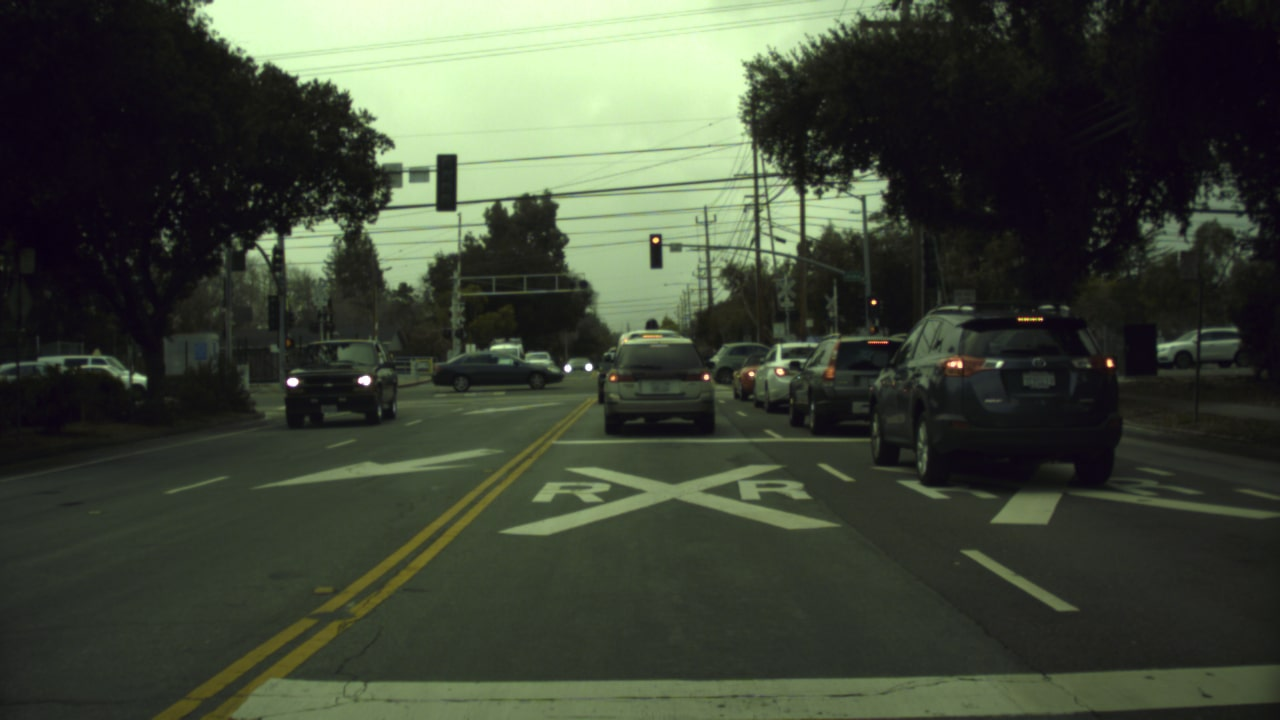signal: (648, 231, 664, 268)
